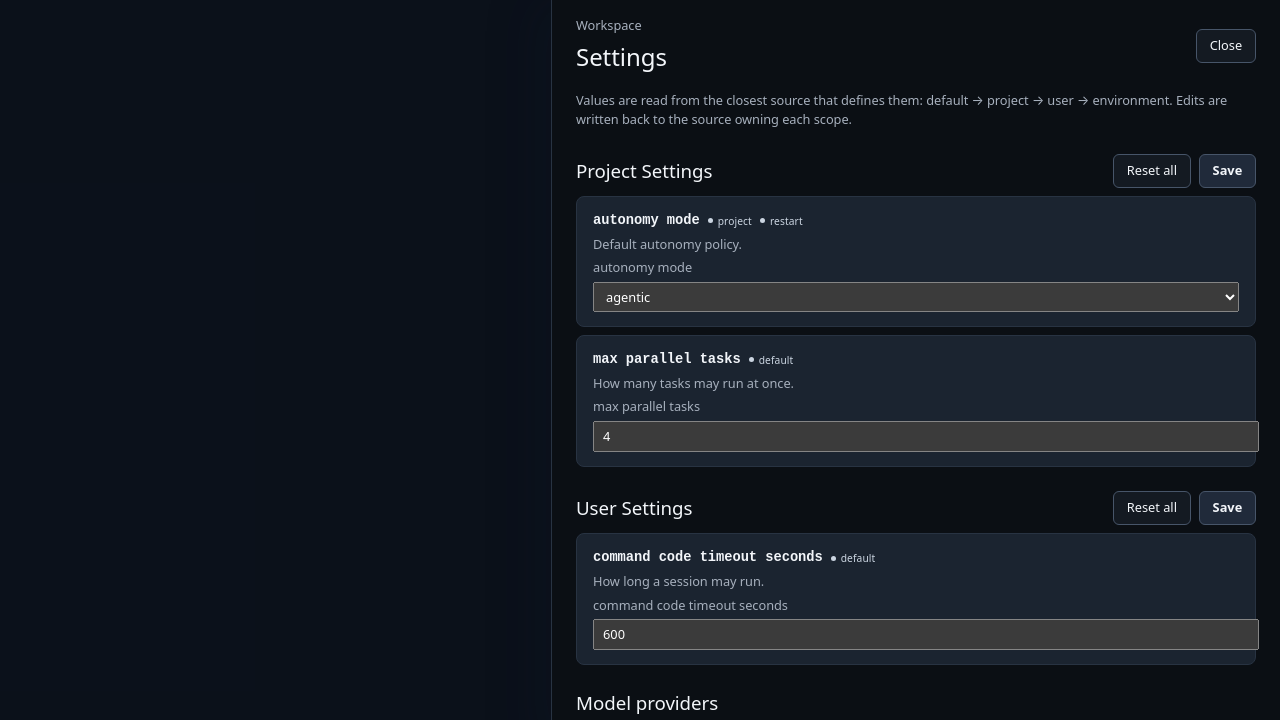
Test: SettingsDrawer › reports restart requirements from the save result
Expected: the heading "project settings" is shown, top-left (576, 156), bottom-right (712, 185)
Click the 1st button "Save" at (1227, 171), box top-left (1199, 154), bottom-right (1256, 188)
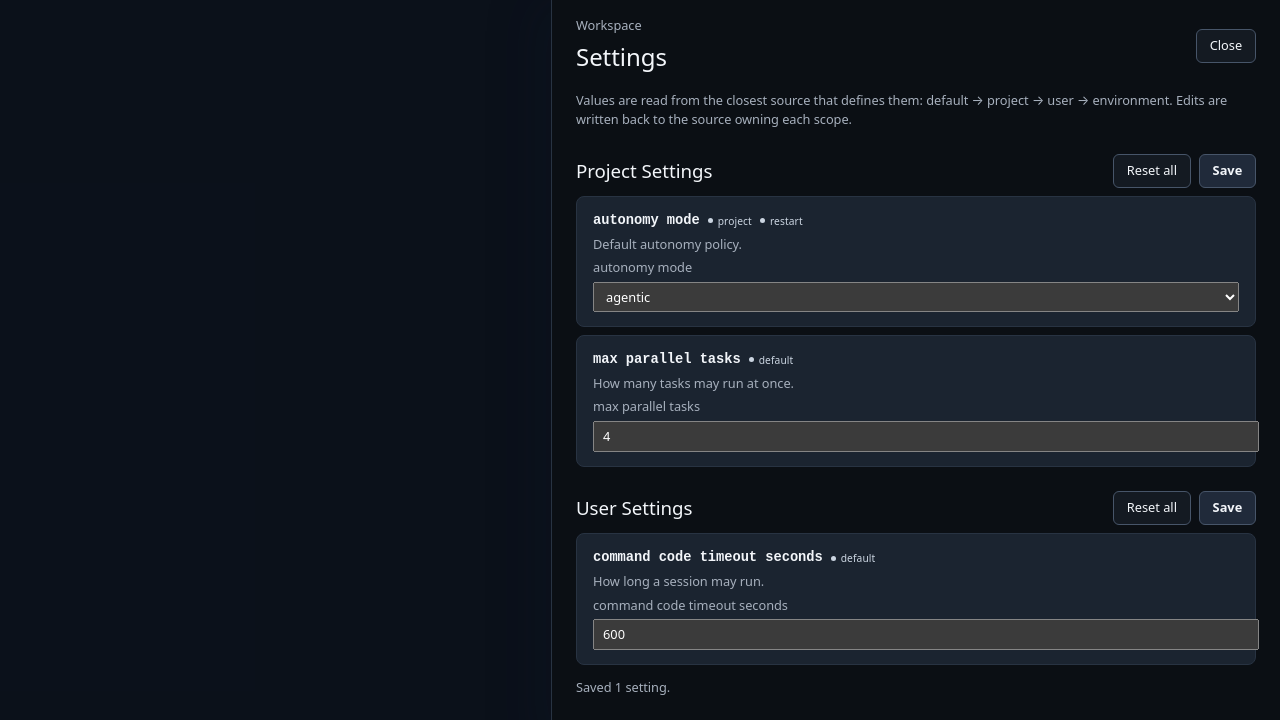
Expected: the text "Saved 1 setting." is shown, top-left (576, 678), bottom-right (670, 696)
